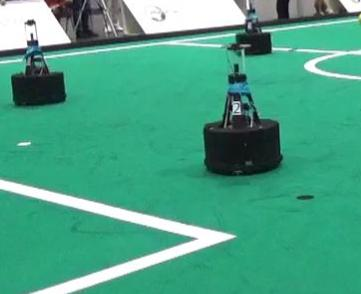robot: (198, 43, 285, 177), (9, 18, 67, 107), (233, 1, 275, 56)
